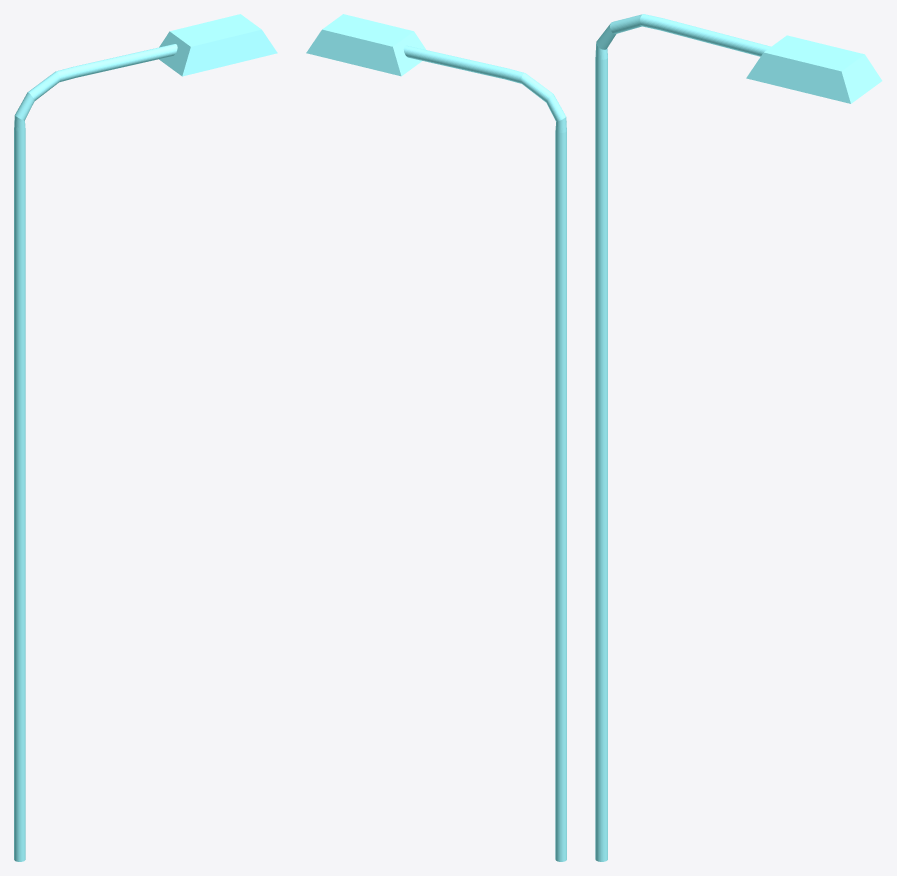
File: streetlight.fbx
3 renders of one model, left to right at view 1: azimuth 30°, elevation 25°; view 2: azimuth 150°, elevation 25°; view 3: azimuth 330°, elevation 25°, orthographic. The views are drawn at different scales.
Visible parts, largest first — view 1: Cylinder.017; view 2: Cylinder.017; view 3: Cylinder.017.
Boxes of the visible parts, x1=… form: Cylinder.017: x1=14, y1=14, x2=277, y2=861; Cylinder.017: x1=306, y1=14, x2=566, y2=861; Cylinder.017: x1=595, y1=14, x2=882, y2=861.
Bounding box in the file's own units: 143 × 714 × 2156.
